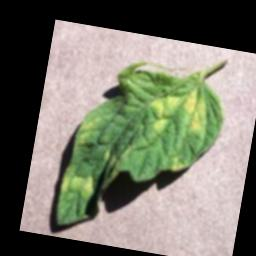Leaf_Mold: (142, 74, 212, 146), (59, 168, 97, 199)
